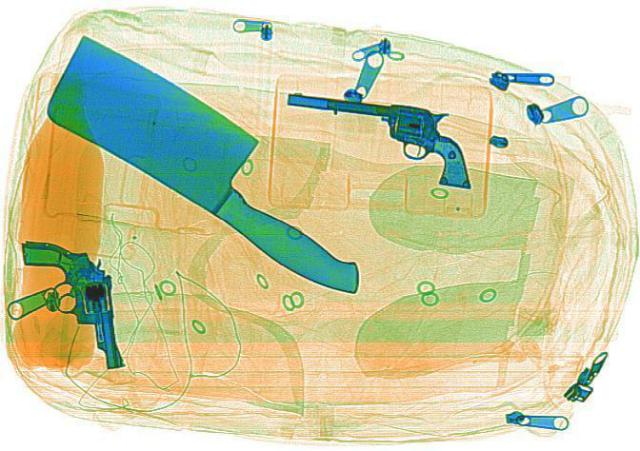Gun: (256, 62, 516, 195), (14, 233, 128, 373)
Knife: (0, 26, 431, 306)
